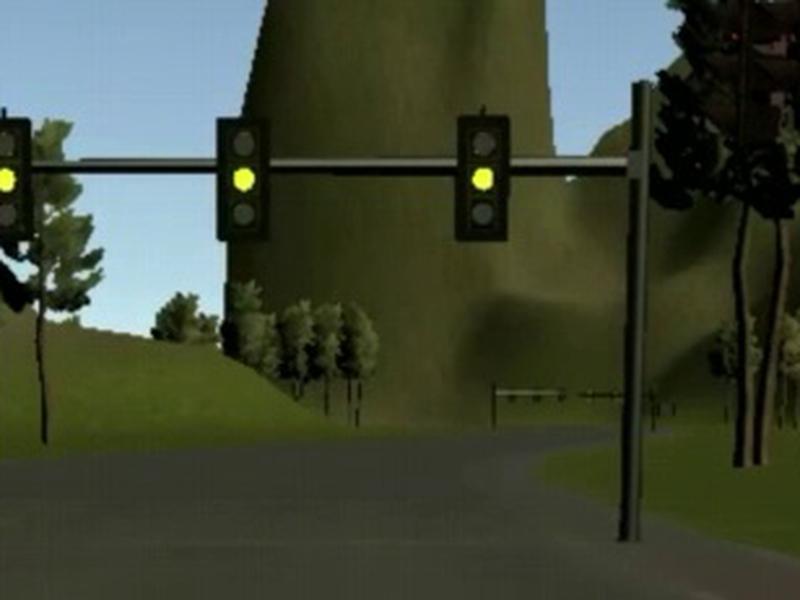Yellow: (454, 114, 509, 242), (214, 118, 270, 242), (1, 117, 31, 241)
